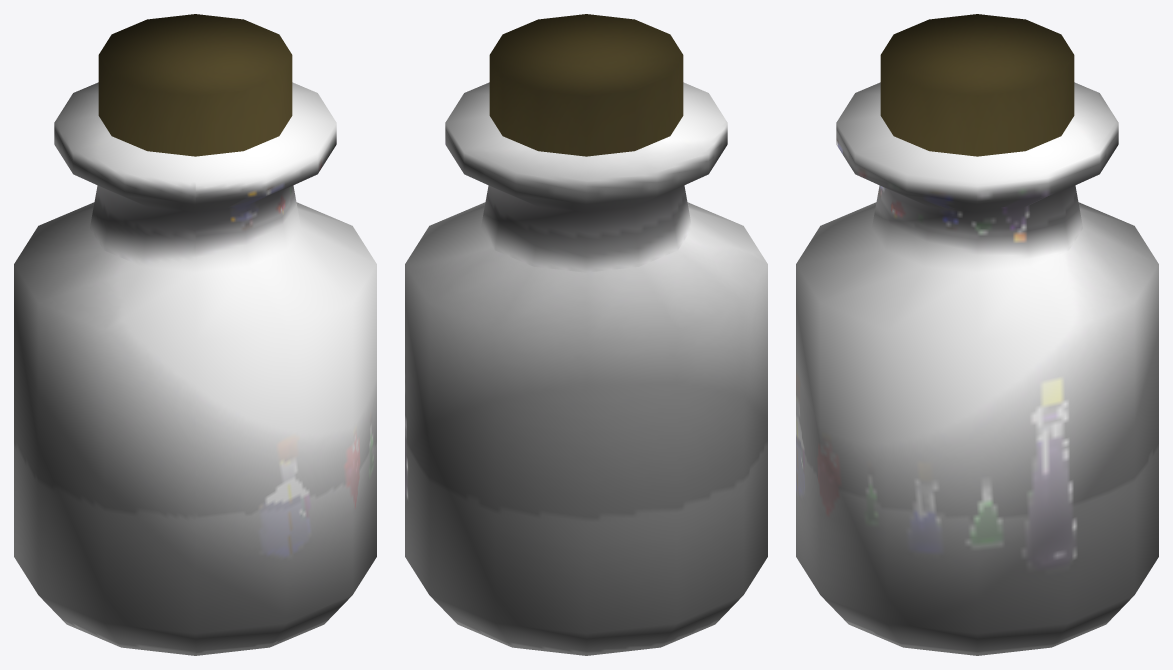
File: Potions9.fbx
3 views of the same model, side by side, from view 1: azimuth 30°, elevation 25°; view 2: azimuth 150°, elevation 25°; view 3: azimuth 270°, elevation 25° (orthographic).
Parts seen in each view (by area): view 1: Cylinder.000; view 2: Cylinder.000; view 3: Cylinder.000.
Part boxes in pixels (x1,y1,x2,y2): Cylinder.000: (14, 14, 376, 655); Cylinder.000: (405, 14, 767, 655); Cylinder.000: (796, 14, 1158, 655).
Bounding box in the file's own units: 56.92 × 93.14 × 56.92.
